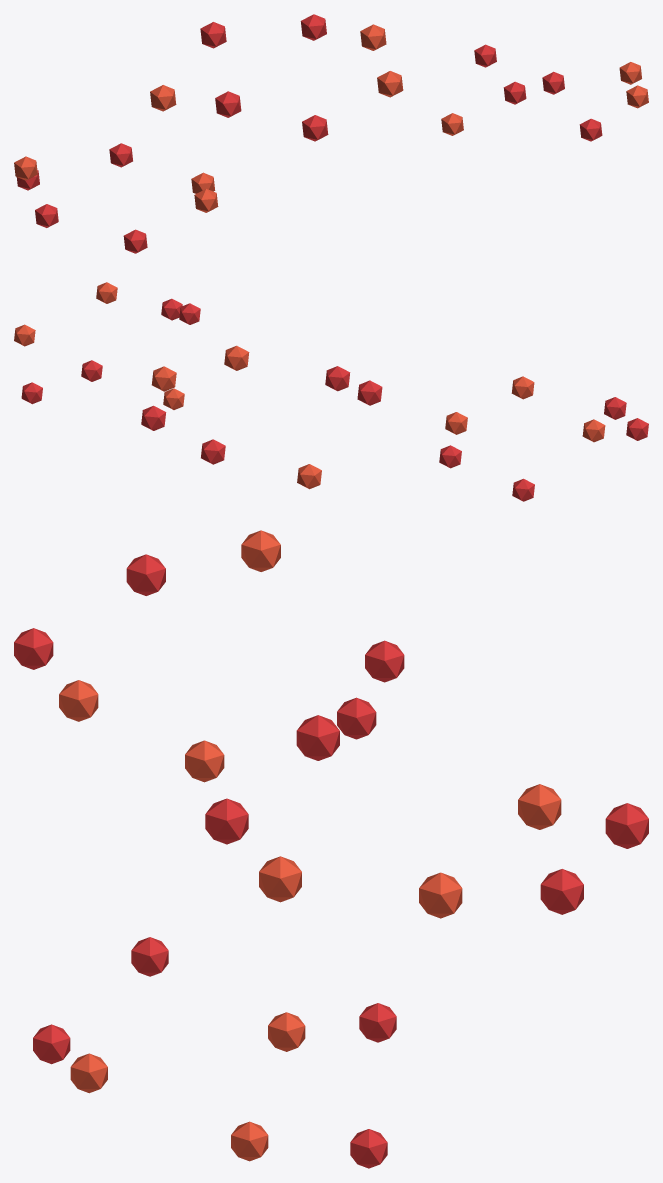
File: theme_orchard_fruit.glb
The picture shows the model from 3 angles, top to bottom: view 1: azimuth 30°, elevation 25°; view 2: azimuth 150°, elevation 25°; view 3: azimuth 270°, elevation 25°; orthographic projection. The views are drawn at different scales.
Parts seen in each view (by area): view 1: theme_orchard_fruit; view 2: theme_orchard_fruit; view 3: theme_orchard_fruit.
Boxes of the visible parts, <box> form: theme_orchard_fruit: <box>14,14,648,253</box>; theme_orchard_fruit: <box>14,282,648,501</box>; theme_orchard_fruit: <box>14,530,648,1168</box>.
Bounding box in the file's own units: 2.45 × 0.3612 × 1.23.
